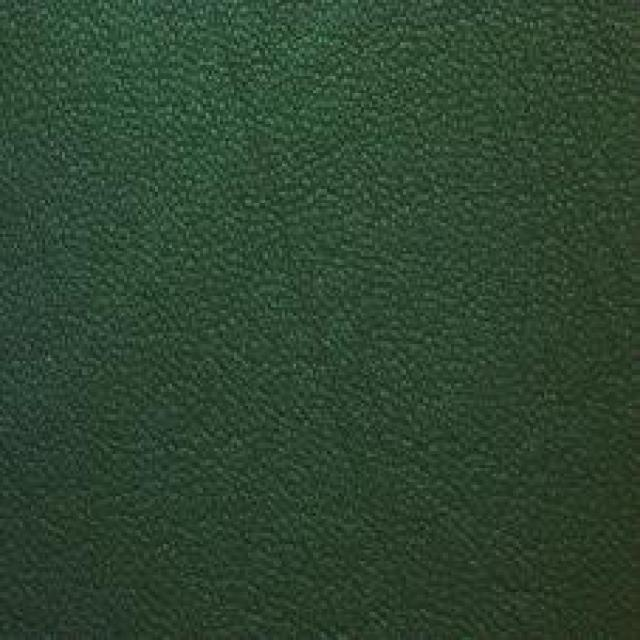Growth Marks: (243, 250, 404, 470), (194, 36, 295, 216)
